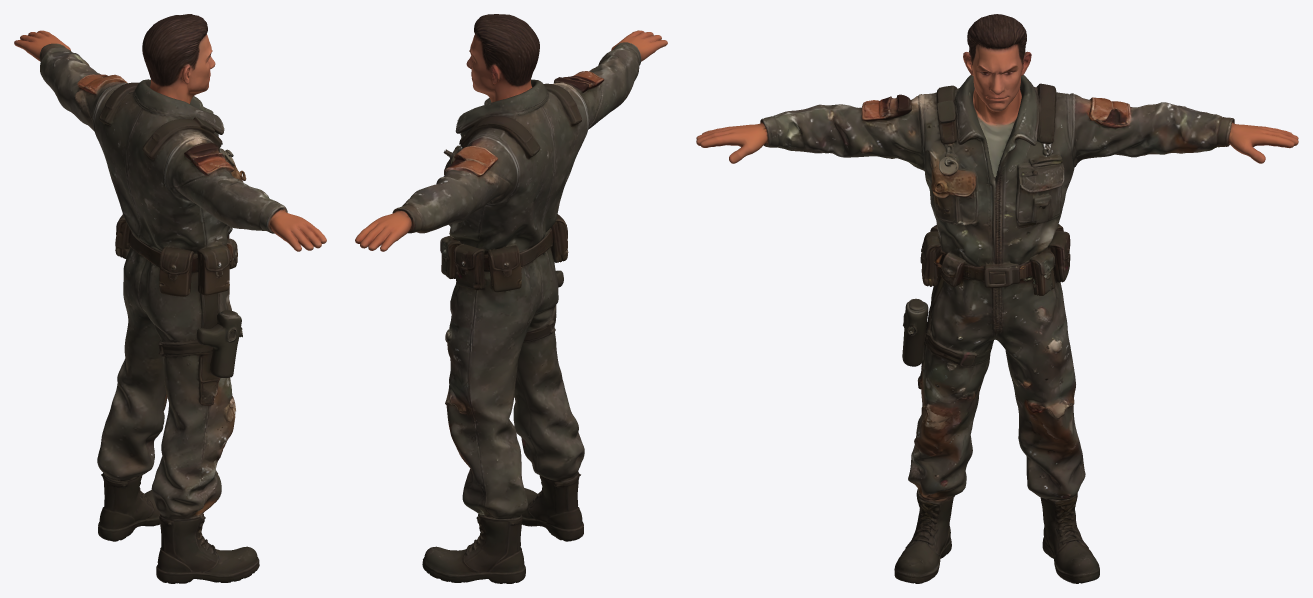
Rendered from character.glb.
The picture shows the model from 3 angles, left to right: view 1: azimuth 30°, elevation 25°; view 2: azimuth 150°, elevation 25°; view 3: azimuth 270°, elevation 25°; orthographic projection. The views are drawn at different scales.
Visible parts, largest first — view 1: tripo_node_9ed1de0c-4d79-4f33-9060-8d62076af99c; view 2: tripo_node_9ed1de0c-4d79-4f33-9060-8d62076af99c; view 3: tripo_node_9ed1de0c-4d79-4f33-9060-8d62076af99c.
Boxes of the visible parts, bbox=[...] form: tripo_node_9ed1de0c-4d79-4f33-9060-8d62076af99c: bbox=[14, 14, 326, 583]; tripo_node_9ed1de0c-4d79-4f33-9060-8d62076af99c: bbox=[355, 14, 667, 583]; tripo_node_9ed1de0c-4d79-4f33-9060-8d62076af99c: bbox=[696, 14, 1298, 583].
Size of the model in its own units: 0.196 by 0.9796 by 0.9697.
Materials: 1 (1 with a texture image).
